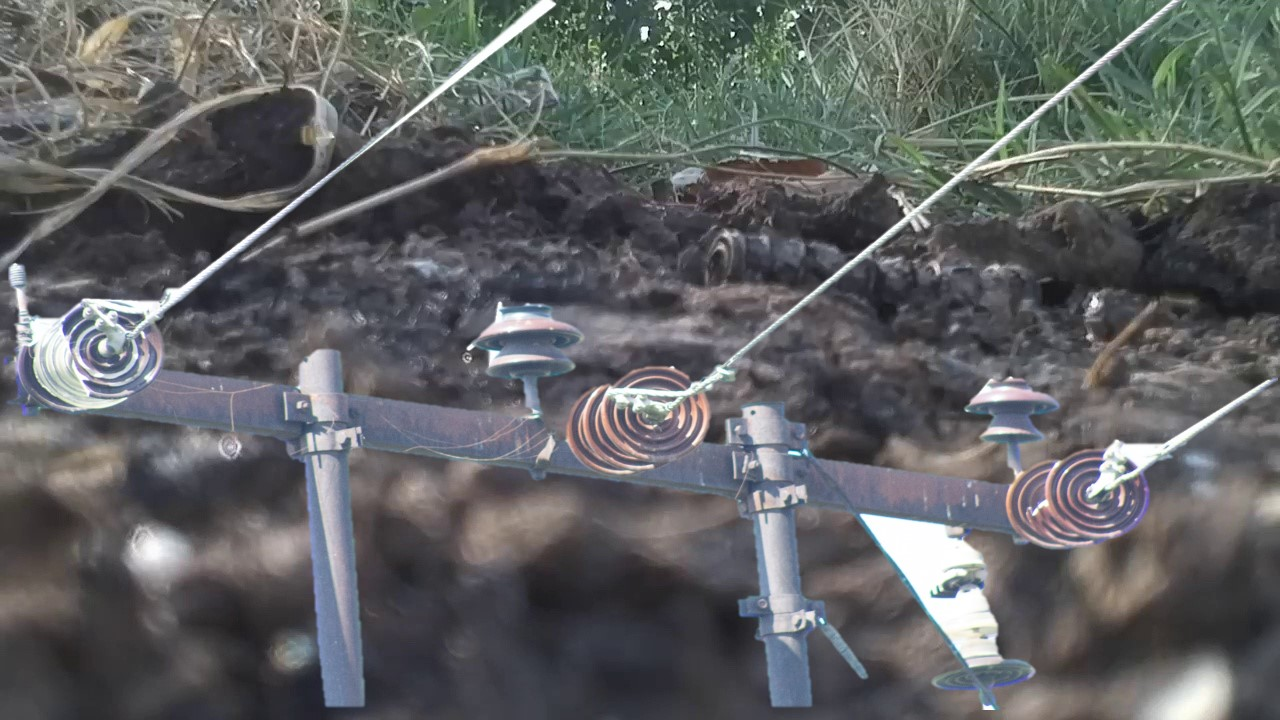defect_disc: (57, 293, 169, 406)
insulator_disc: (597, 358, 716, 466), (1043, 444, 1155, 545)
